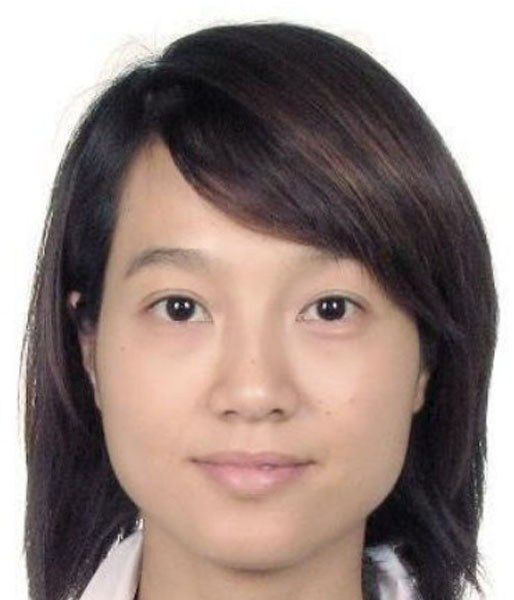unmask: (106, 167, 416, 550)
